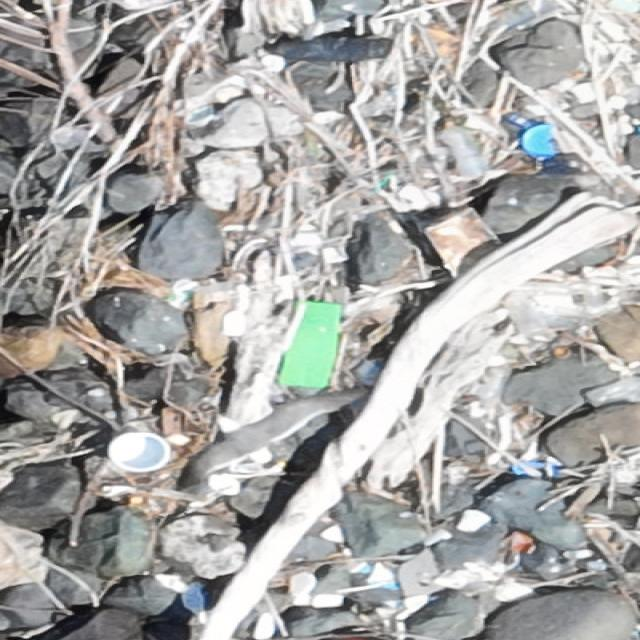F: (184, 399, 332, 479)
